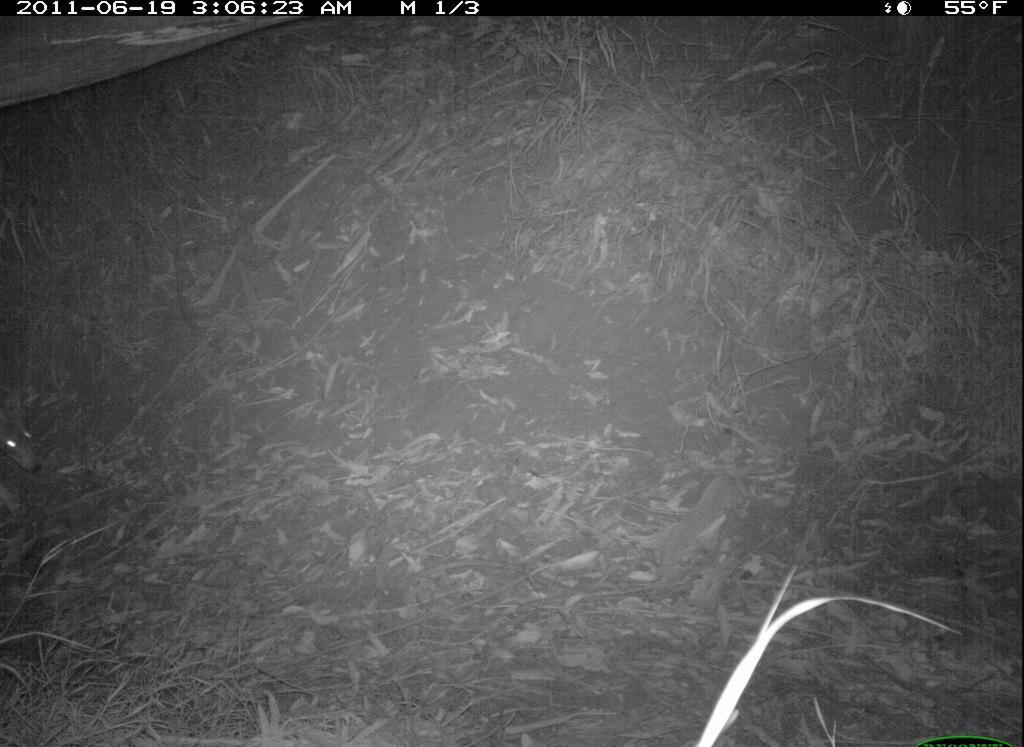coyote: (3, 376, 47, 524)
